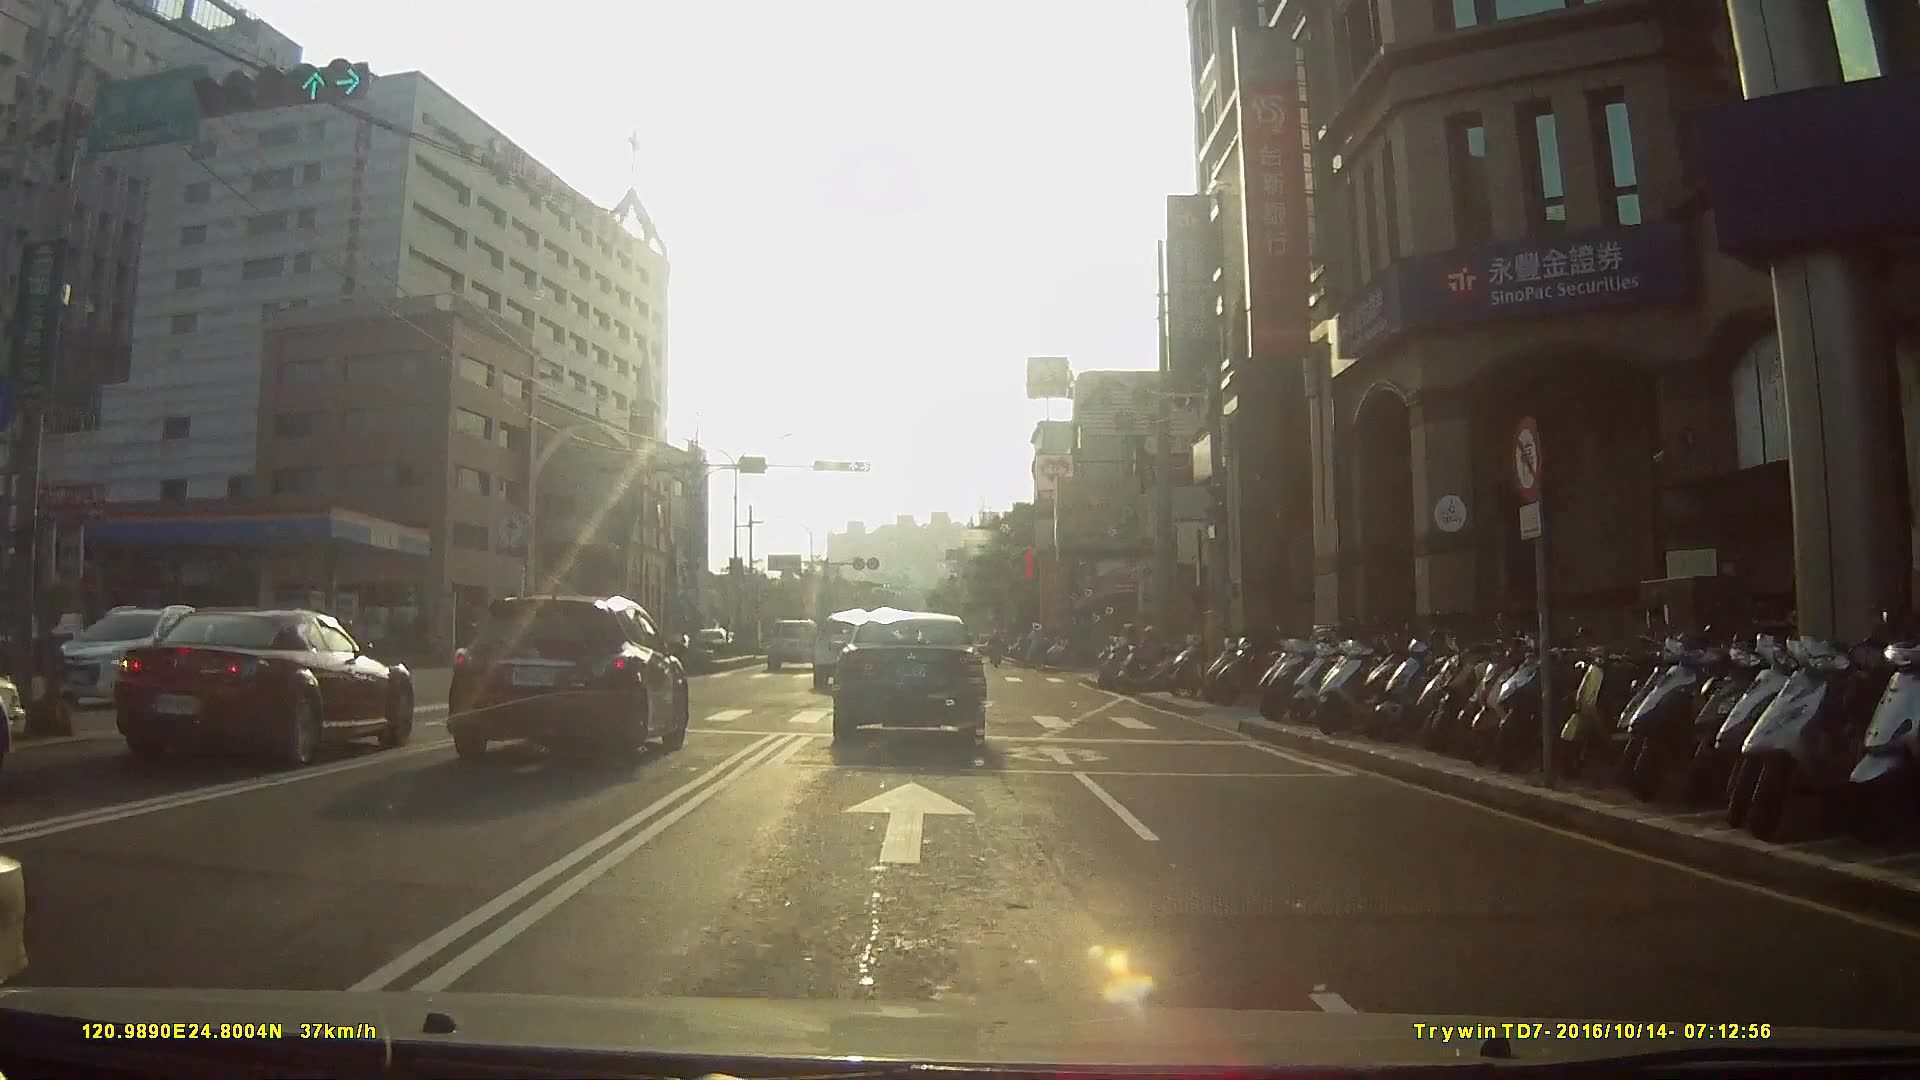rider: (1110, 620, 1191, 691)
vehicle: (92, 603, 417, 779), (441, 592, 705, 766), (827, 607, 1000, 756), (35, 598, 246, 715), (812, 606, 891, 690), (1, 657, 37, 793), (767, 615, 826, 670)
